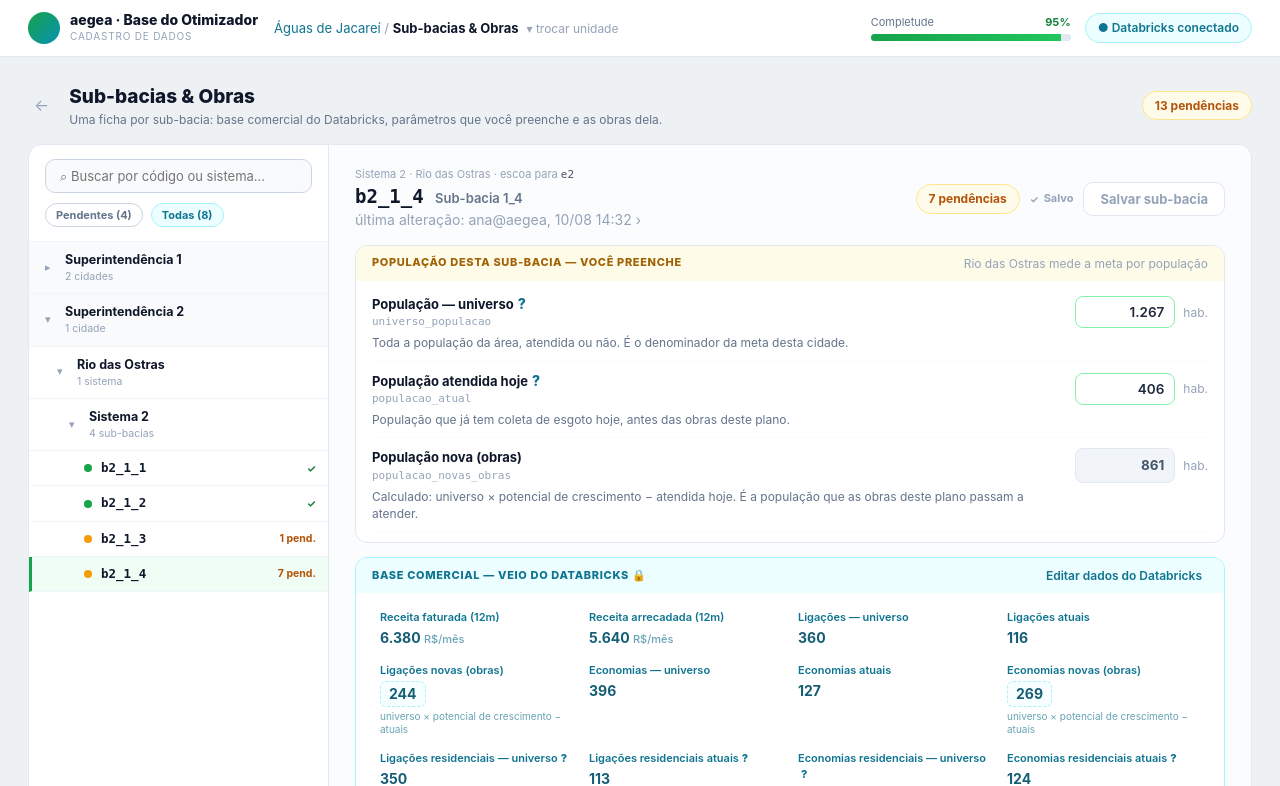
Test: ficha sem histórico › diz que não há registro, e não inventa que nada mudou
expect the button "Salvar sub-bacia" is shown: met, box [1084,182,1225,216]
Step 1. Click the button "última alteração: ana@aegea, 10/08 14:32 ›" → click(498, 221), box [355,210,641,231]
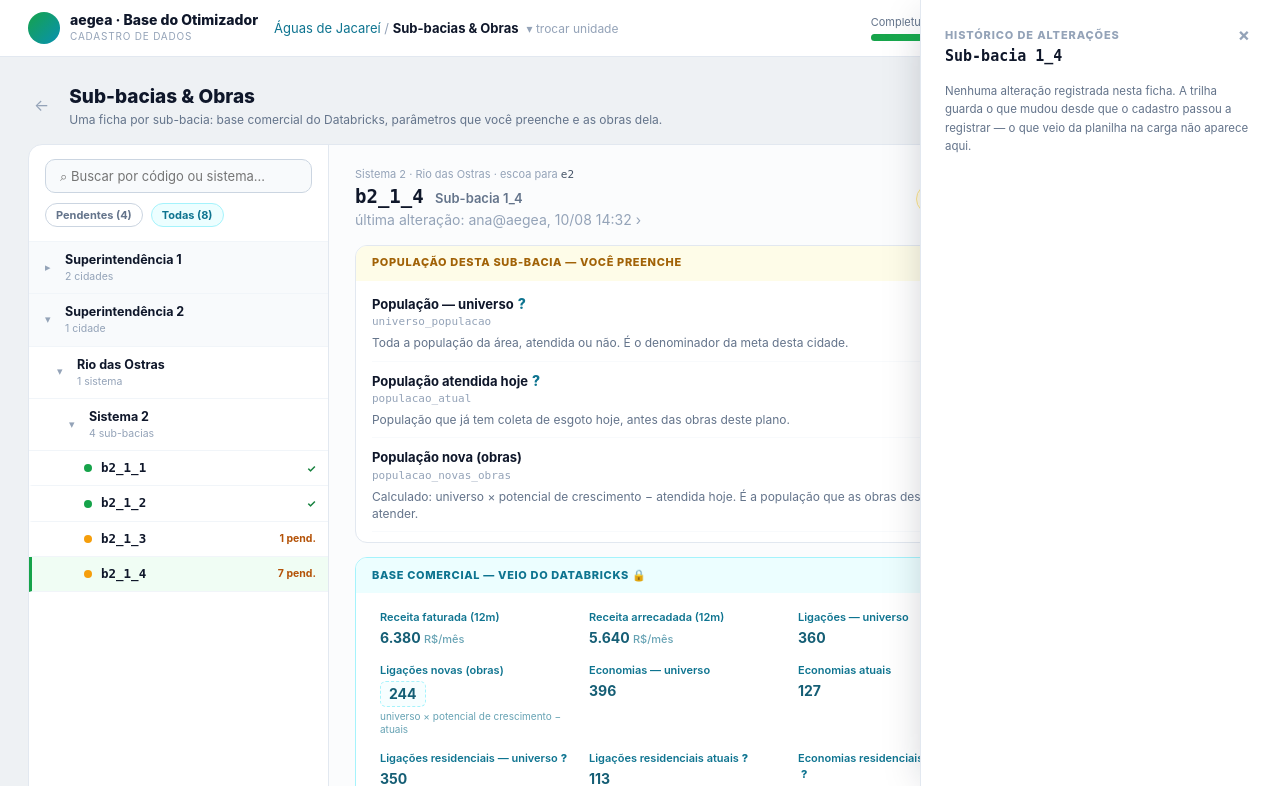
expect the element "Histórico de alterações" shows "Nenhuma alteração registrada": met, box [945,84,1248,153]
